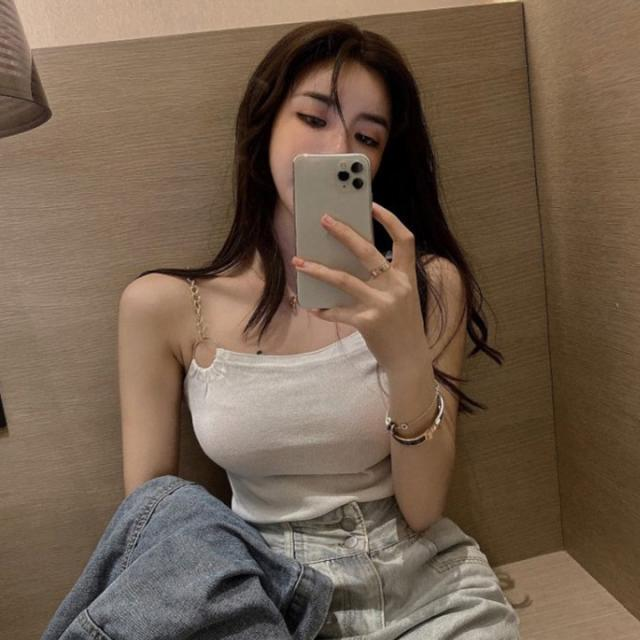phone: (292, 154, 375, 308)
